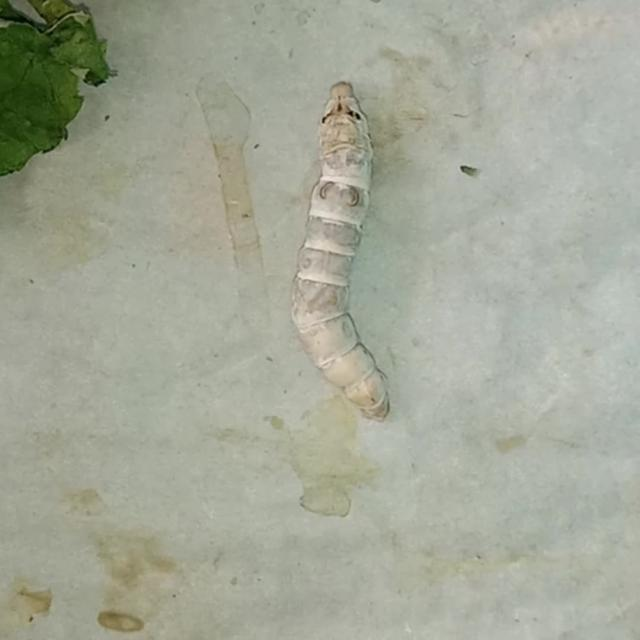Grasserie: (272, 51, 442, 445)
